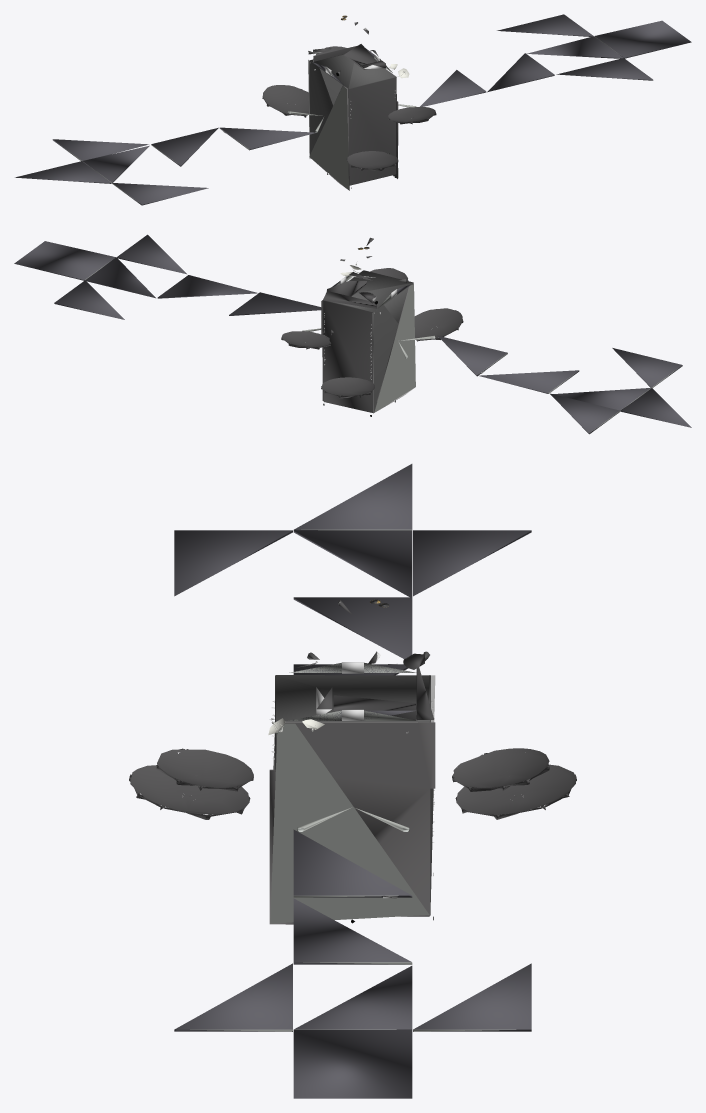
Rendered from space-systems-loral-ssl-1300.glb.
3 renders of one model, top to bottom at view 1: azimuth 30°, elevation 25°; view 2: azimuth 150°, elevation 25°; view 3: azimuth 270°, elevation 25°, orthographic. The views are drawn at different scales.
Visible parts, largest first — view 1: Empty_Mesh; view 2: Empty_Mesh; view 3: Empty_Mesh.
Part boxes in pixels (bbox=[...]): Empty_Mesh: bbox=[15, 14, 691, 205]; Empty_Mesh: bbox=[14, 234, 691, 434]; Empty_Mesh: bbox=[129, 464, 576, 1098].
Size of the model in its own units: 268 by 61.06 by 80.36.
1 material, 1 textured.
